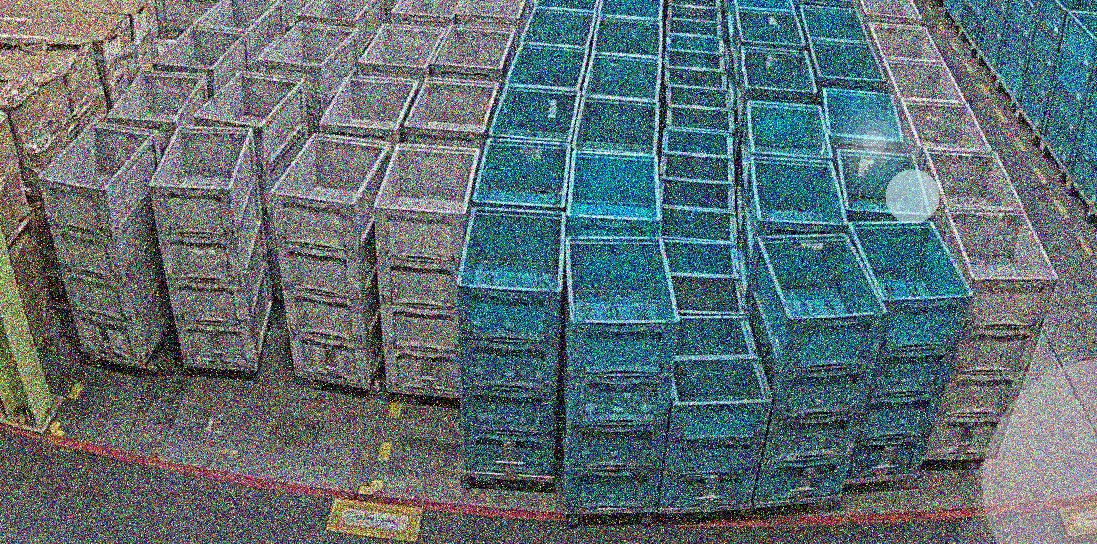4G: (923, 207, 1059, 461), (38, 121, 172, 364), (270, 133, 391, 389), (148, 126, 273, 371), (373, 143, 480, 399)
B4: (753, 226, 884, 503), (846, 220, 974, 479), (565, 236, 680, 511), (456, 207, 566, 476)
B8: (659, 315, 773, 508)
